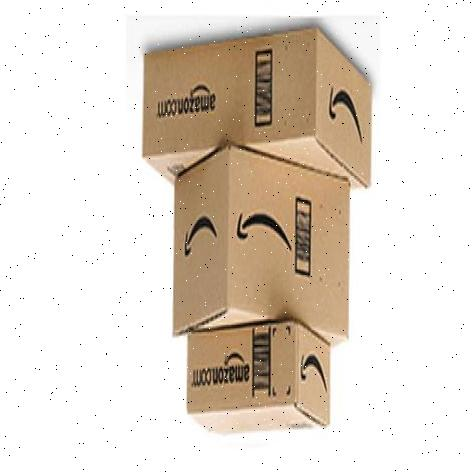Amazon: (139, 27, 378, 194), (164, 142, 356, 340), (180, 321, 340, 435)
